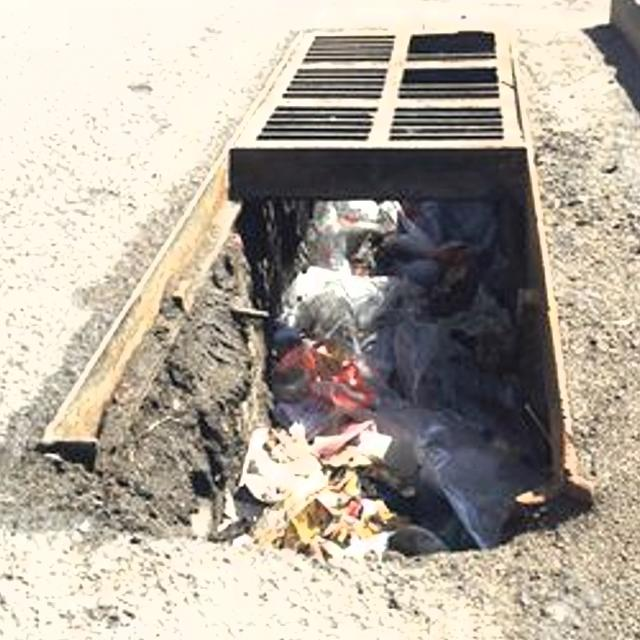lose: (27, 150, 640, 556)
